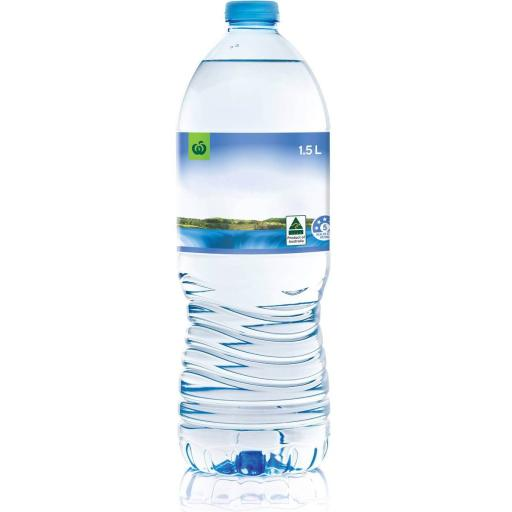bottle: (176, 0, 330, 476)
